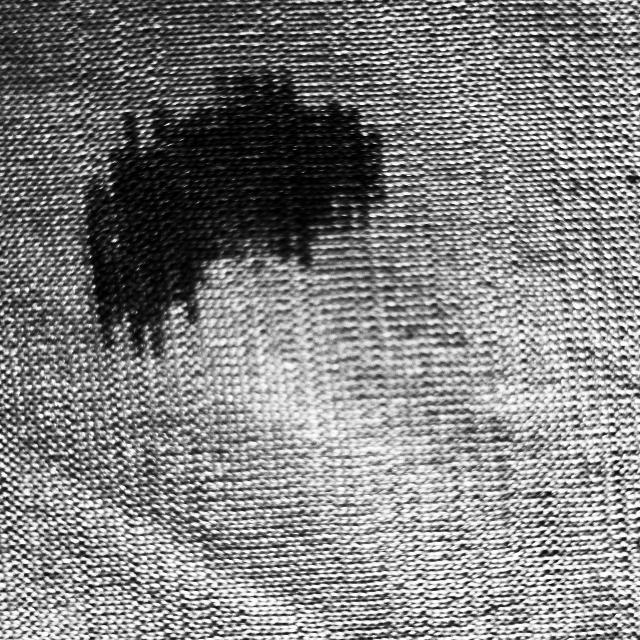Color_defect: (75, 66, 393, 359)
